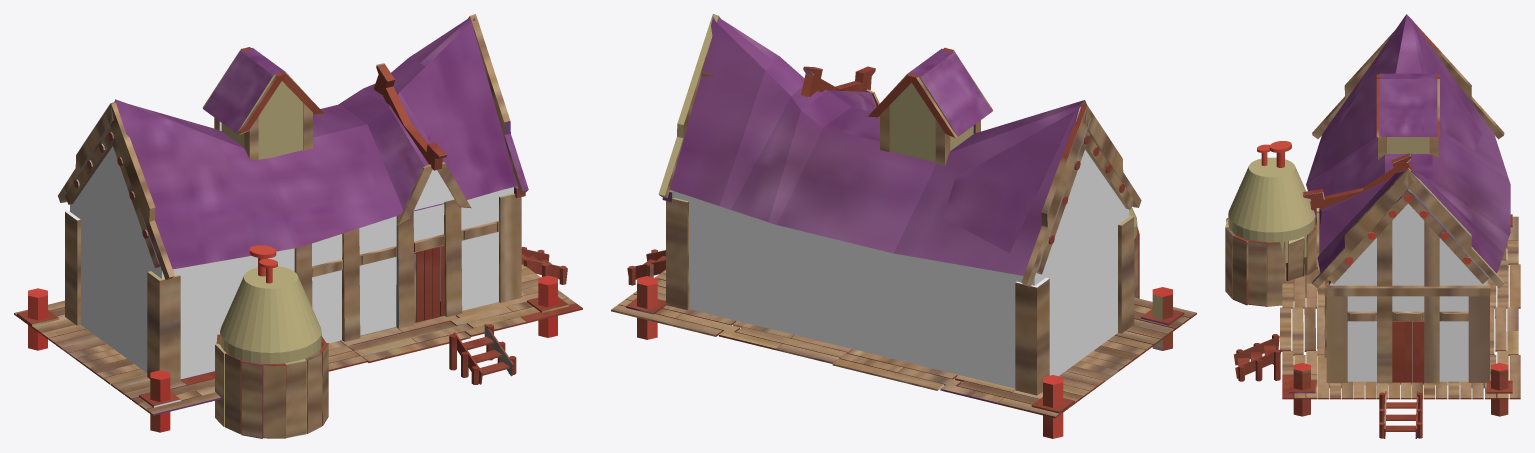
Rendered from CasaRecu09.fbx.
3 views of the same model, side by side, from view 1: azimuth 30°, elevation 25°; view 2: azimuth 150°, elevation 25°; view 3: azimuth 270°, elevation 25° (orthographic). The views are drawn at different scales.
Visible parts, largest first — view 1: Casa; view 2: Casa; view 3: Casa.
Part boxes in pixels (bbox=[...]): Casa: bbox=[14, 14, 582, 438]; Casa: bbox=[611, 14, 1196, 438]; Casa: bbox=[1225, 14, 1520, 438].
Size of the model in its own units: 1195 by 674 by 745.
Materials: 1 (1 with a texture image).
